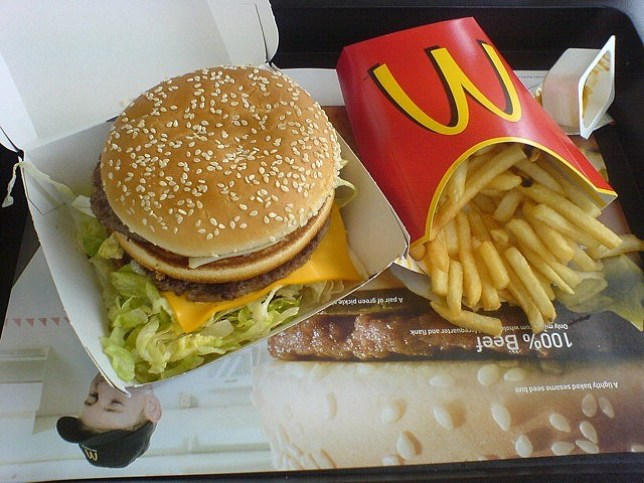mcdonalds: (362, 33, 536, 141)
